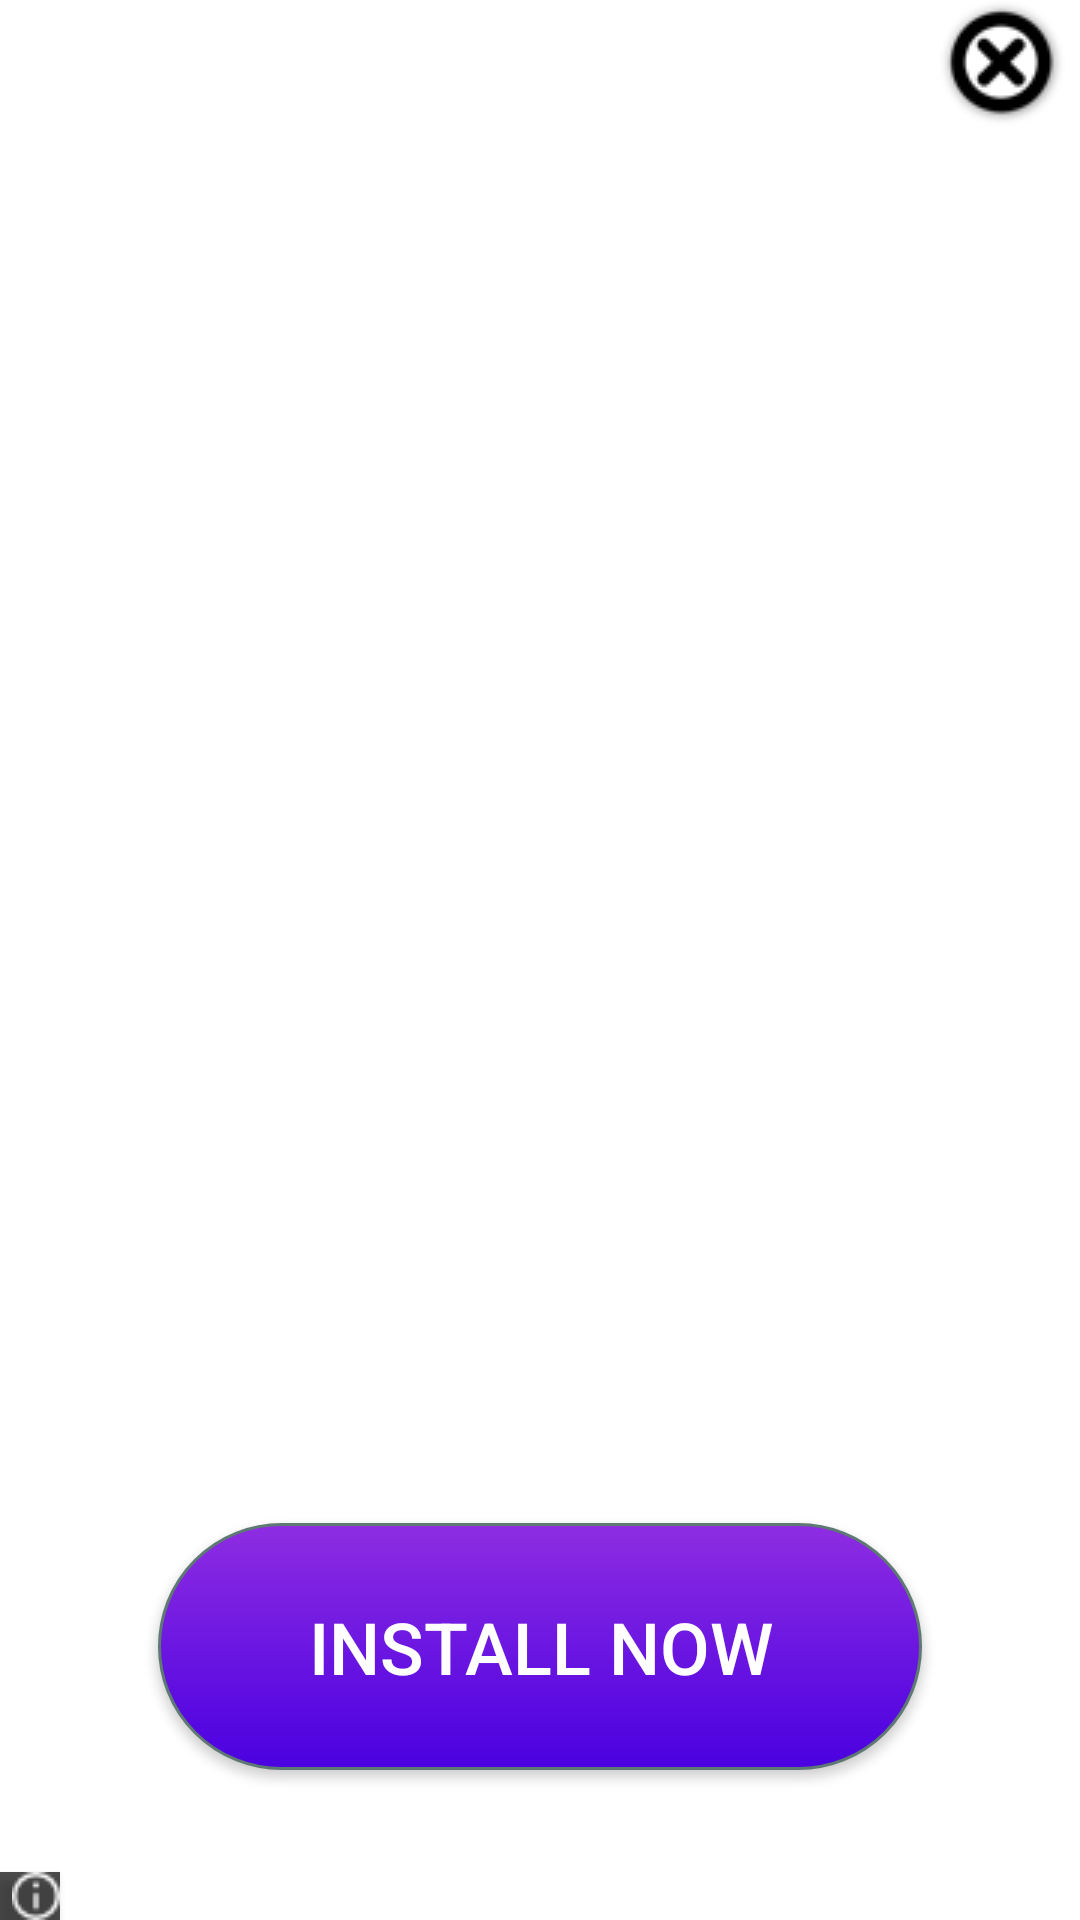

Where to tap for icons on this 1080*1920 app screen, as [x,y]:
tux close: [1002,63]
